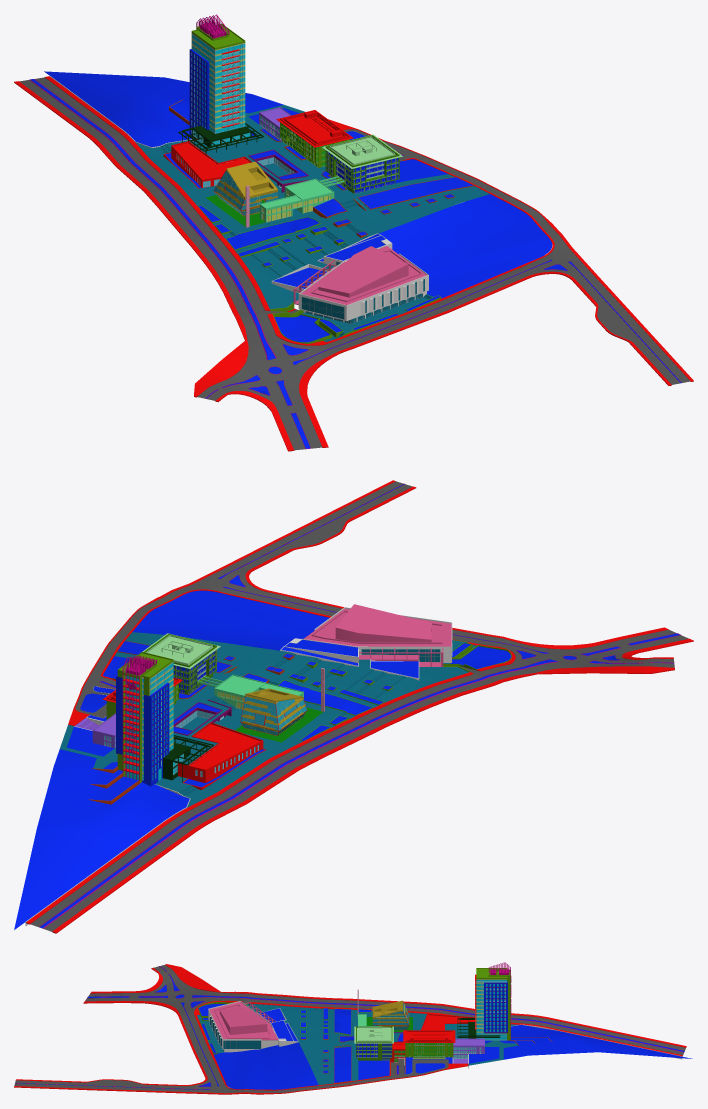
Rendered from Bilisim_Vadisi.fbx.
3 renders of one model, top to bottom at view 1: azimuth 30°, elevation 25°; view 2: azimuth 150°, elevation 25°; view 3: azimuth 270°, elevation 25°, orthographic. The views are drawn at different scales.
Parts seen in each view (by area): view 1: Object064, Plane120, Object066, Object067, Plane105, Box010, zemin, Object065, Plane144, Box017, Object060, Object061 (+7 smaller); view 2: Object064, Plane120, Box010, Object066, Plane105, Object067, Object065, zemin, Plane144, Object060, Box017, Plane142 (+6 smaller); view 3: Object064, Plane120, Object066, Object067, Box010, Plane105, Object065, Plane144, Object061, zemin, Box017, Plane142 (+7 smaller).
Boxes of the visible parts, bbox=[...] form: Object064: bbox=[30, 71, 681, 448]; Plane120: bbox=[19, 77, 322, 450]; Object066: bbox=[284, 129, 690, 384]; Object067: bbox=[235, 186, 489, 342]; Plane105: bbox=[271, 233, 428, 323]; Box010: bbox=[178, 14, 263, 154]; zemin: bbox=[136, 105, 454, 238]; Object065: bbox=[14, 81, 671, 451]; Plane144: bbox=[45, 76, 693, 381]; Box017: bbox=[322, 134, 402, 193]; Object060: bbox=[163, 139, 308, 192]; Object061: bbox=[276, 110, 353, 167]; Object064: bbox=[14, 484, 679, 929]; Plane120: bbox=[30, 629, 688, 931]; Box010: bbox=[116, 652, 213, 786]; Object066: bbox=[75, 481, 547, 718]; Plane105: bbox=[280, 604, 452, 680]; Object067: bbox=[125, 632, 476, 707]; Object065: bbox=[52, 486, 693, 933]; zemin: bbox=[60, 652, 355, 807]; Plane144: bbox=[26, 480, 515, 924]; Object060: bbox=[173, 699, 265, 789]; Box017: bbox=[142, 633, 220, 694]; Plane142: bbox=[39, 483, 680, 928]; Object064: bbox=[15, 966, 692, 1089]; Plane120: bbox=[85, 965, 685, 1055]; Object066: bbox=[14, 1002, 448, 1093]; Object067: bbox=[197, 1003, 351, 1084]; Box010: bbox=[457, 962, 511, 1040]; Plane105: bbox=[208, 1001, 298, 1052]; Object065: bbox=[16, 964, 686, 1086]; Plane144: bbox=[14, 1000, 682, 1094]; Object061: bbox=[390, 1030, 455, 1062]; zemin: bbox=[351, 1009, 518, 1080]; Box017: bbox=[354, 1026, 393, 1060]; Plane142: bbox=[16, 966, 684, 1089].
Size of the model in its own units: 24559 by 8402 by 50179.
